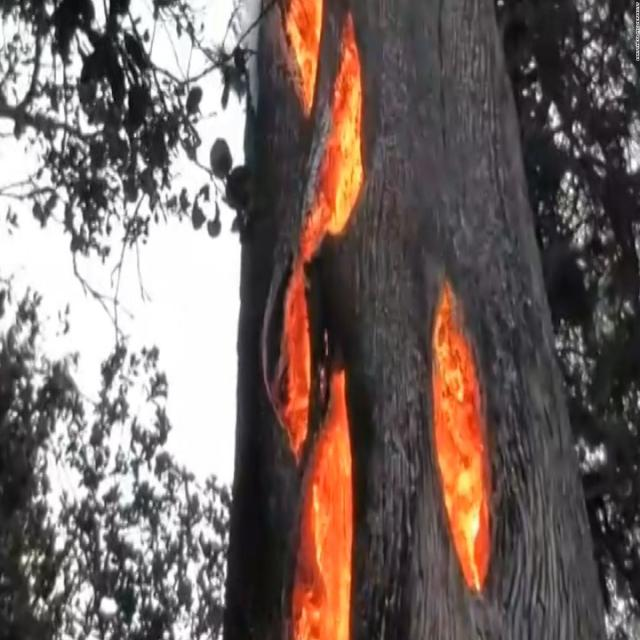Fire: (271, 11, 365, 459), (430, 279, 494, 593), (292, 373, 352, 640), (284, 0, 330, 116)
